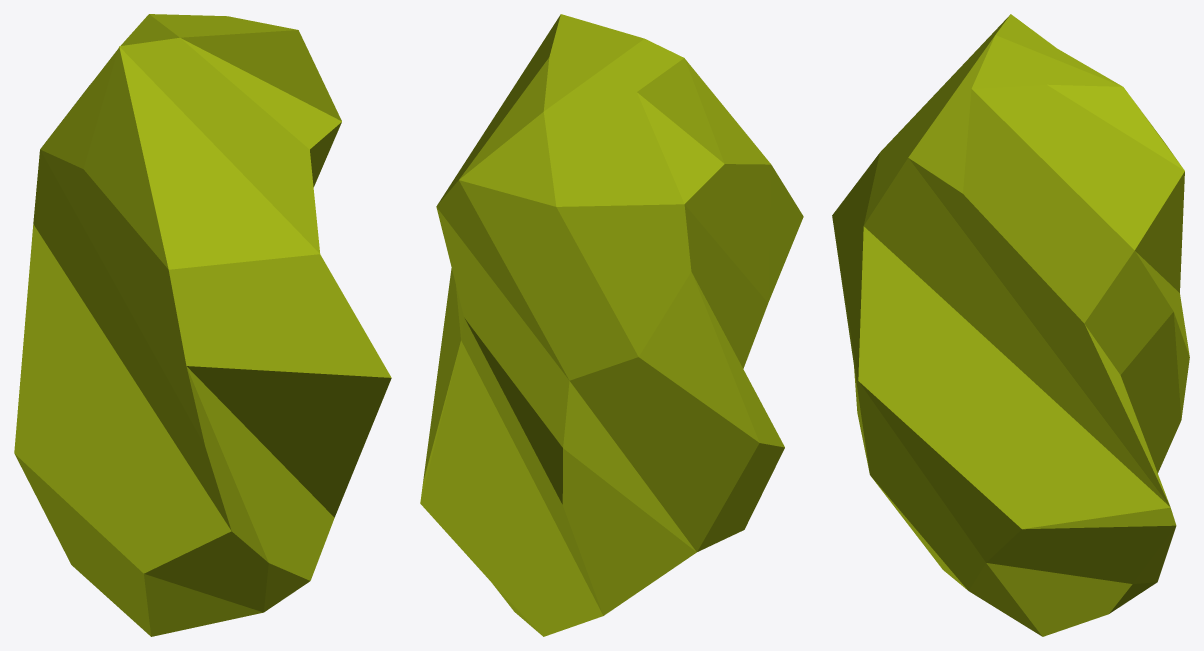
File: albero8.fbx
3 views of the same model, side by side, from view 1: azimuth 30°, elevation 25°; view 2: azimuth 150°, elevation 25°; view 3: azimuth 270°, elevation 25° (orthographic). The views are drawn at different scales.
Parts seen in each view (by area): view 1: Tree4; view 2: Tree4; view 3: Tree4.
Boxes of the visible parts, x1,y1,x2,y2 form: Tree4: [14, 14, 391, 636]; Tree4: [420, 14, 803, 636]; Tree4: [832, 14, 1189, 636].
Bounding box in the file's own units: 219 × 393 × 233.
